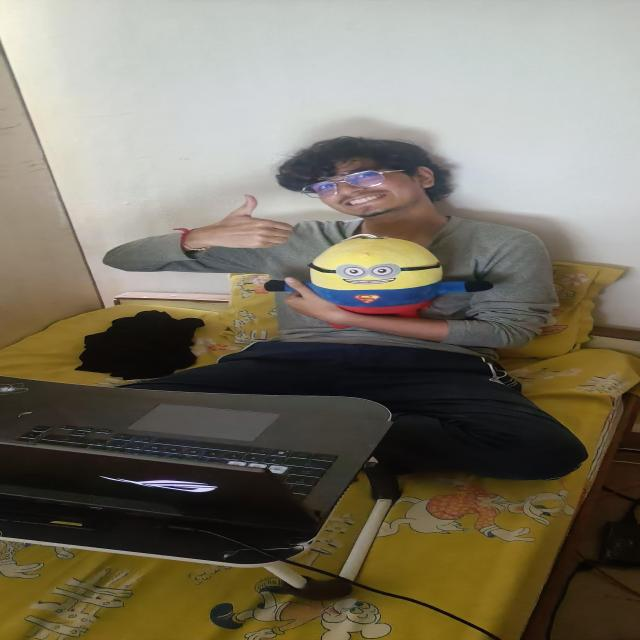minion: (300, 227, 476, 315)
